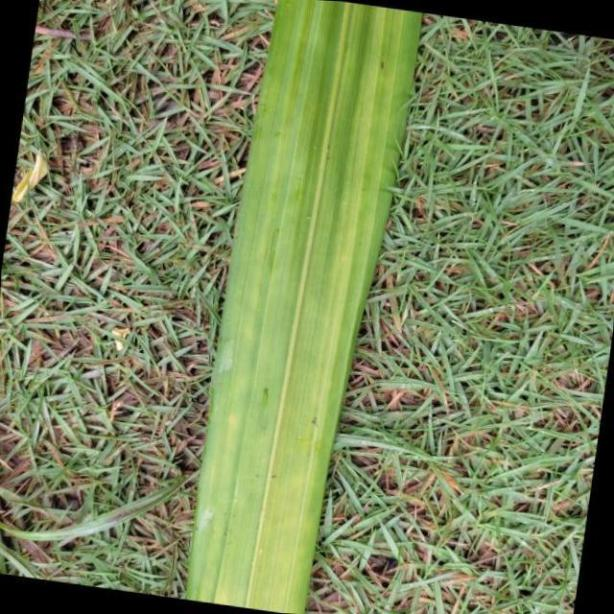nitrogen: (187, 0, 421, 614)
